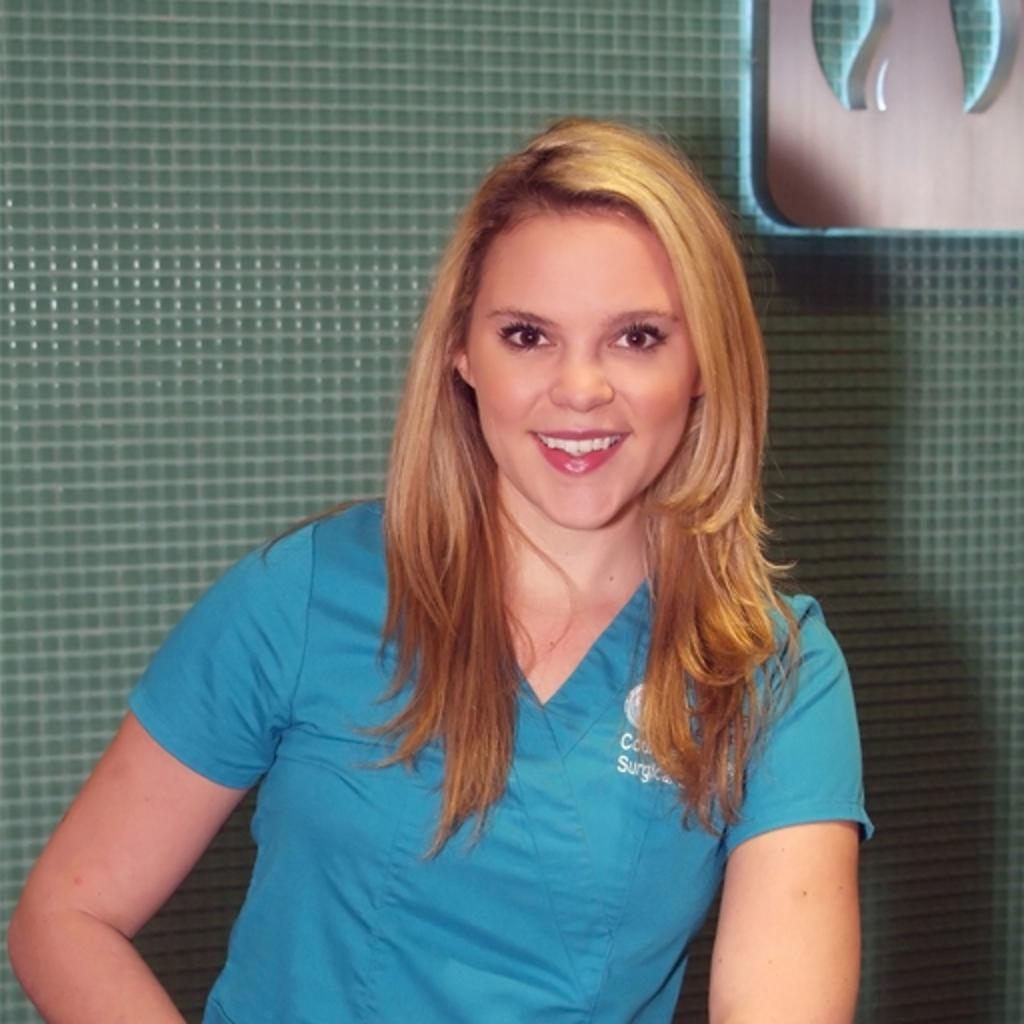face: (466, 232, 694, 528)
